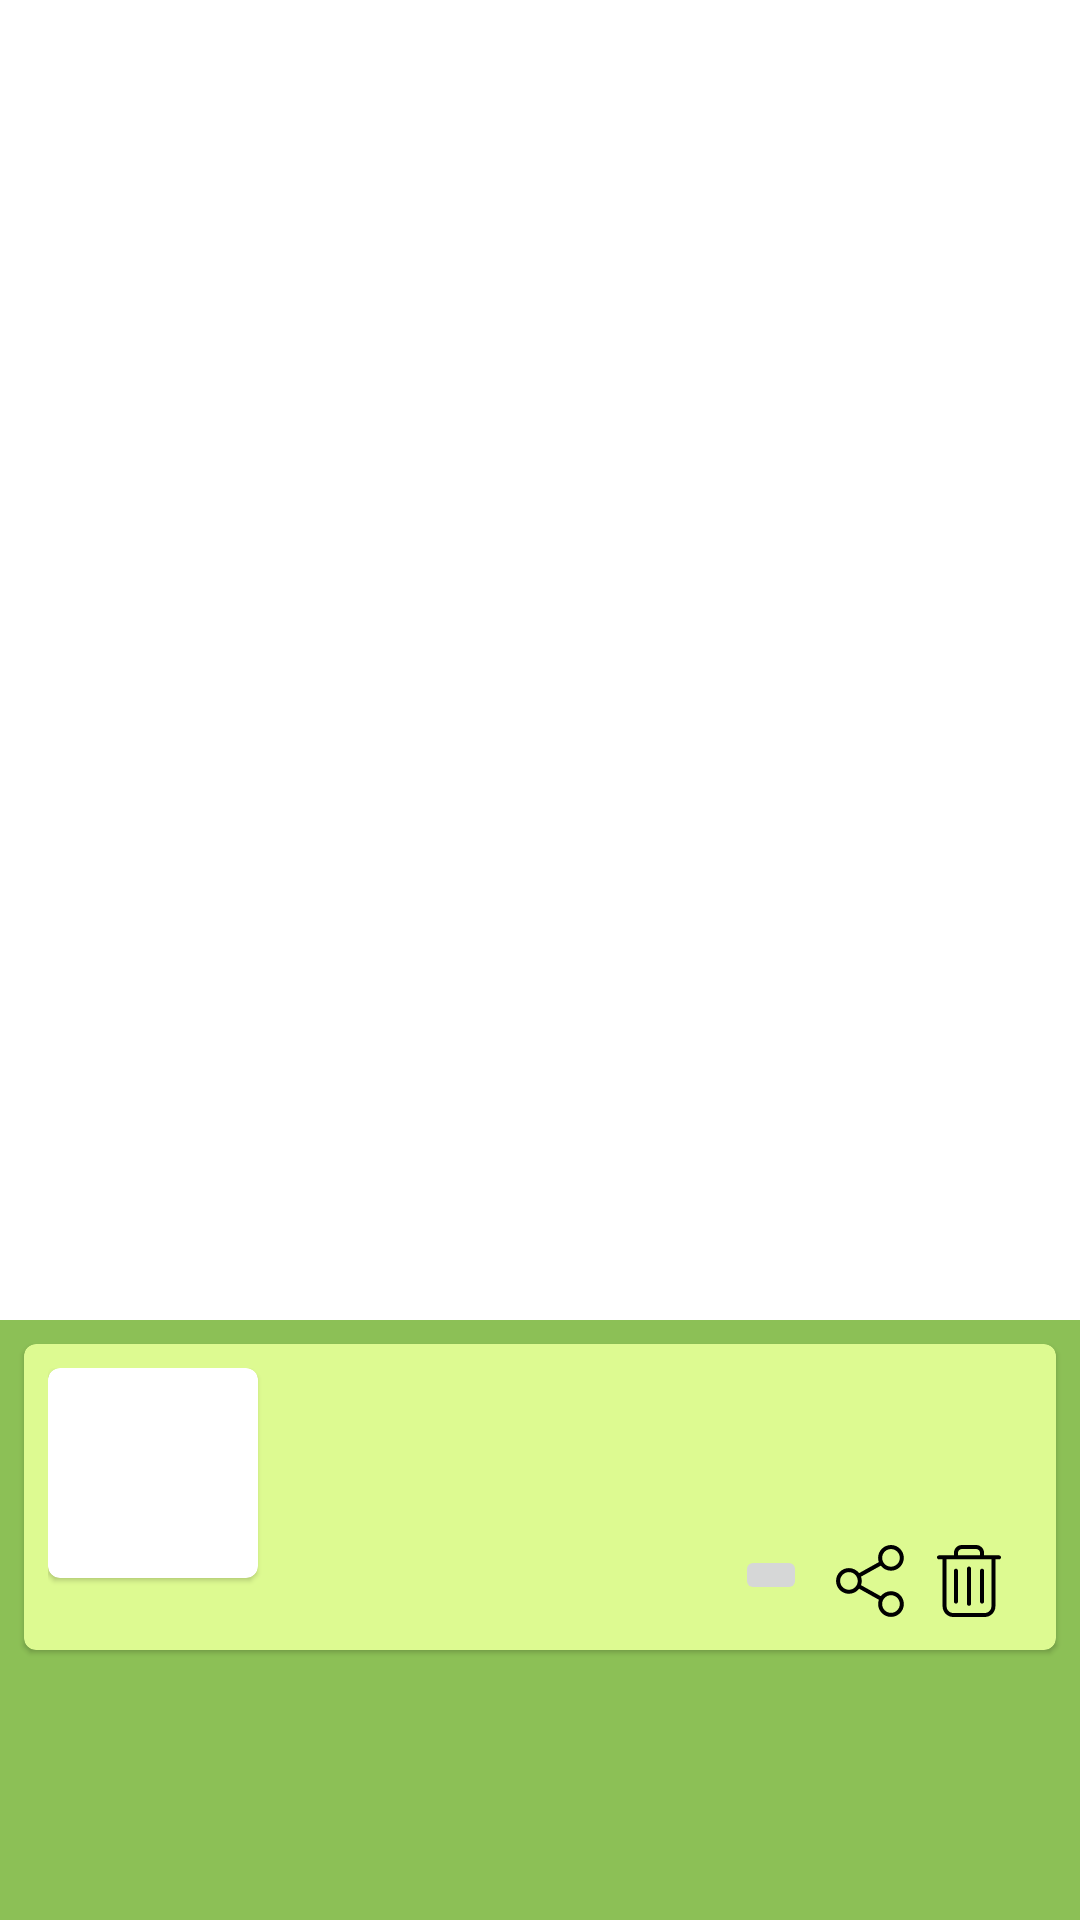

Icons on this 1080w x 1920h Android screen, each with the point to tap as point (x, y):
garbage: point (969, 1581)
share: point (870, 1581)
